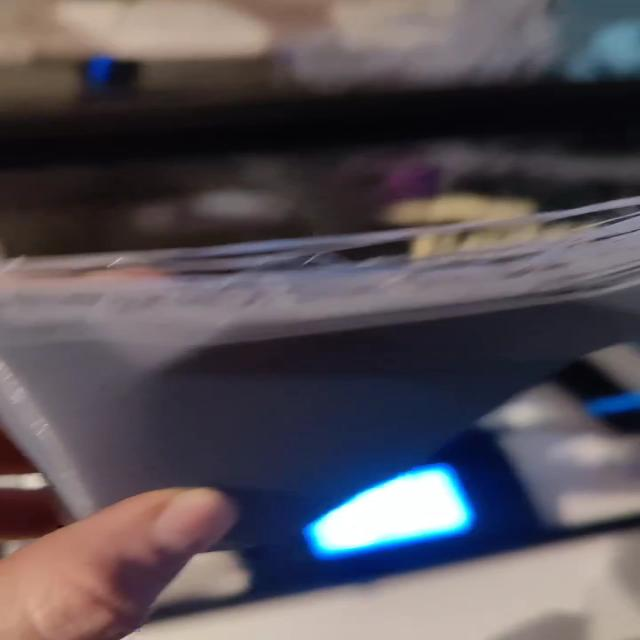spaghetti: (2, 216, 640, 363)
